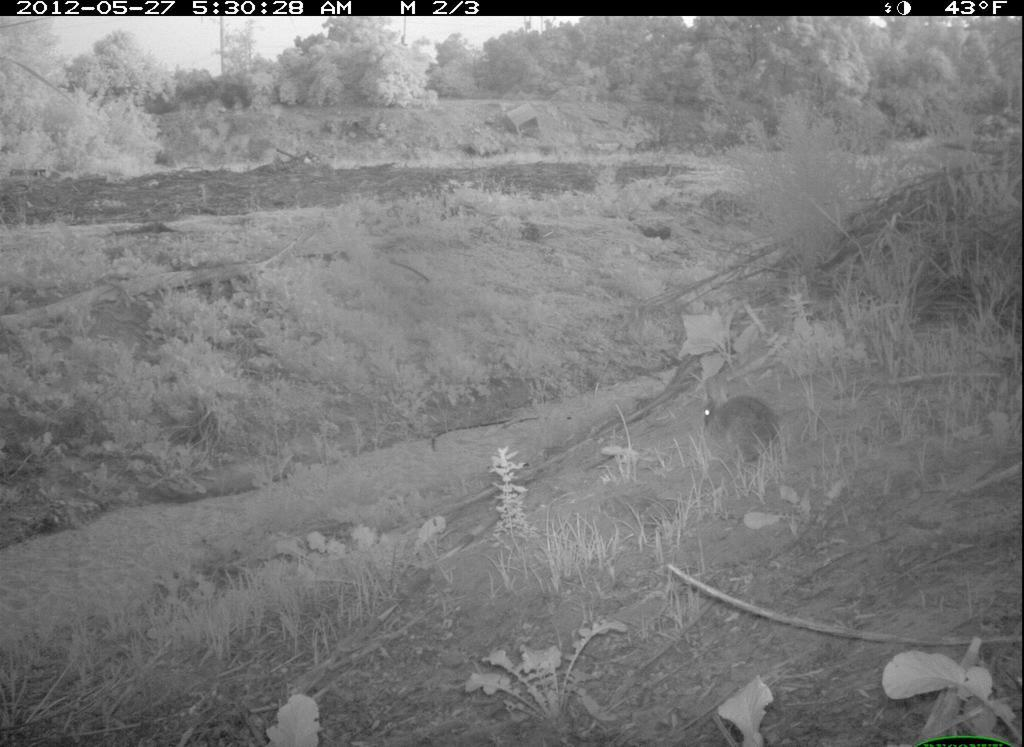rabbit: (698, 368, 793, 470)
